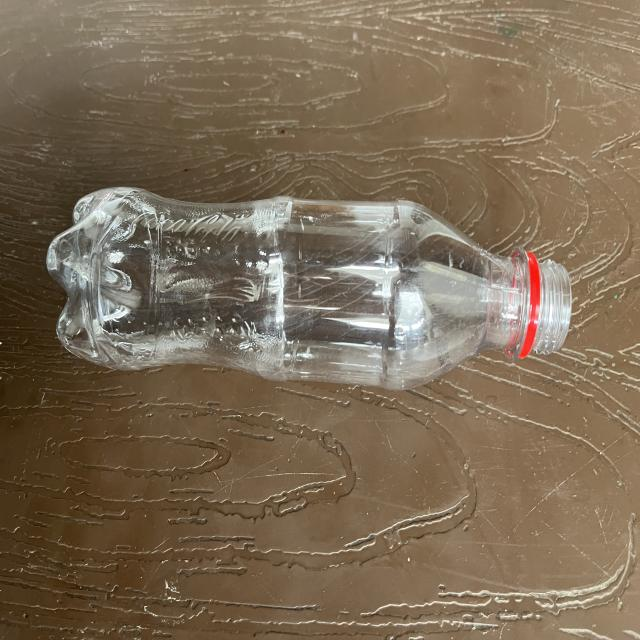PET_With_Cap: (43, 192, 576, 387)
